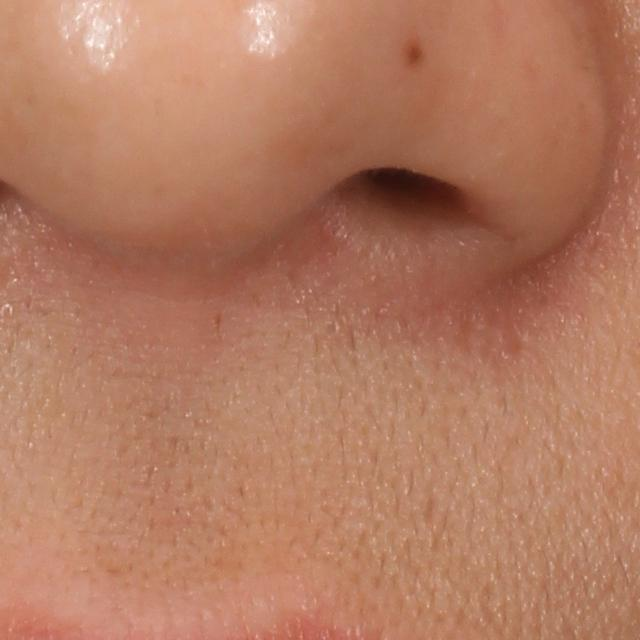nevus: (402, 38, 428, 69)
